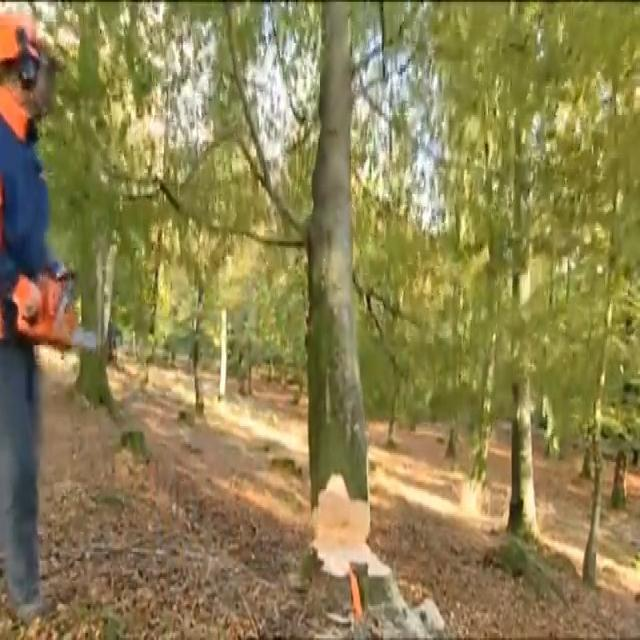Chainsaw: (9, 260, 134, 370)
